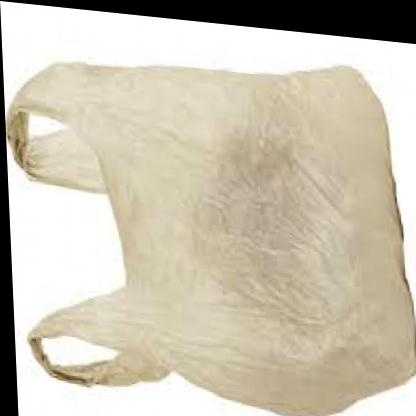trash: (7, 64, 415, 415)
